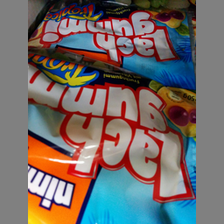candy: (29, 50, 196, 224)
